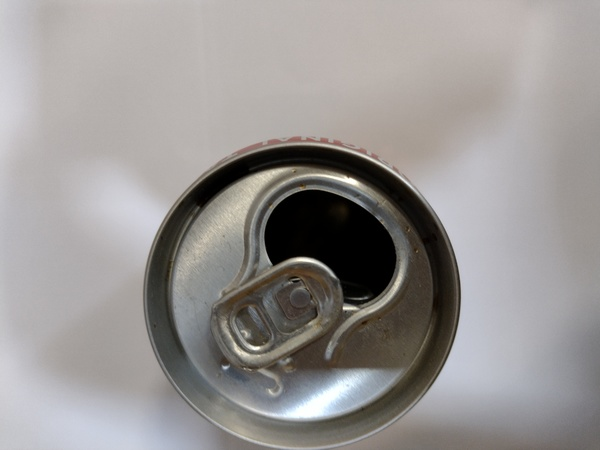can: (118, 134, 464, 444)
